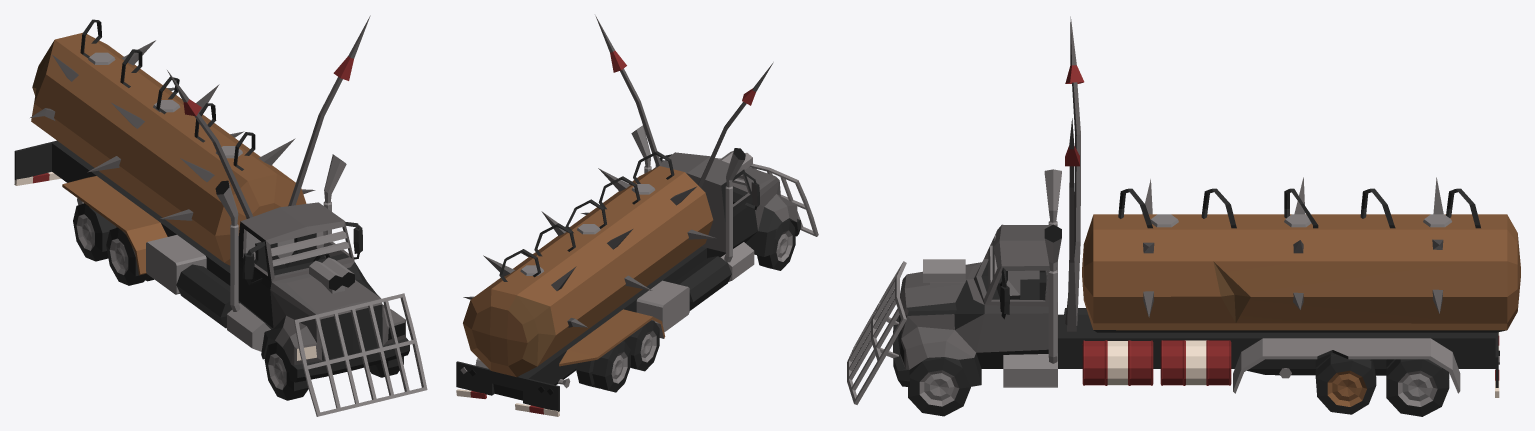
File: apocalypse_car-truck-tanker-apocalypse.fbx
3 renders of one model, left to right at view 1: azimuth 30°, elevation 25°; view 2: azimuth 150°, elevation 25°; view 3: azimuth 270°, elevation 25°, orthographic. The views are drawn at different scales.
Parts seen in each view (by area): view 1: car_truck_tanker_apocalypse_car_truck_tanker_apocalypse_base, car_truck_tanker_apocalypse_car_truck_tanker_apocalypse_prop, car_truck_tanker_apocalypse_car_truck_tanker_apocalypse_whee (×3); view 2: car_truck_tanker_apocalypse_car_truck_tanker_apocalypse_base, car_truck_tanker_apocalypse_car_truck_tanker_apocalypse_prop, car_truck_tanker_apocalypse_car_truck_tanker_apocalypse_whee (×3); view 3: car_truck_tanker_apocalypse_car_truck_tanker_apocalypse_base, car_truck_tanker_apocalypse_car_truck_tanker_apocalypse_prop, car_truck_tanker_apocalypse_car_truck_tanker_apocalypse_whee (×3).
Boxes of the visible parts, x1,y1,x2,y2 form: car_truck_tanker_apocalypse_car_truck_tanker_apocalypse_base: (14, 32, 409, 382); car_truck_tanker_apocalypse_car_truck_tanker_apocalypse_prop: (30, 15, 427, 416); car_truck_tanker_apocalypse_car_truck_tanker_apocalypse_whee (×3): (73, 203, 308, 400); car_truck_tanker_apocalypse_car_truck_tanker_apocalypse_base: (456, 125, 800, 416); car_truck_tanker_apocalypse_car_truck_tanker_apocalypse_prop: (463, 15, 818, 327); car_truck_tanker_apocalypse_car_truck_tanker_apocalypse_whee (×3): (576, 219, 795, 392); car_truck_tanker_apocalypse_car_truck_tanker_apocalypse_base: (893, 169, 1520, 397); car_truck_tanker_apocalypse_car_truck_tanker_apocalypse_prop: (847, 16, 1480, 404); car_truck_tanker_apocalypse_car_truck_tanker_apocalypse_whee (×3): (908, 353, 1449, 416).
Bounding box in the file's own units: 75.41 × 106 × 200.
